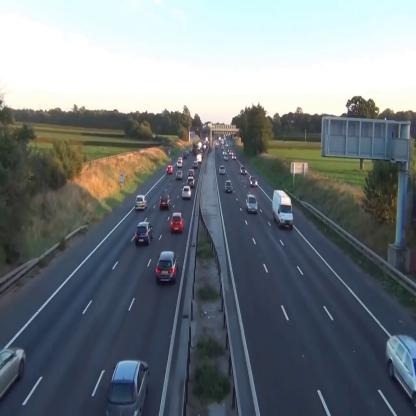car: (106, 359, 149, 416), (386, 332, 416, 405), (156, 250, 179, 284), (135, 222, 153, 244), (171, 213, 184, 232), (245, 194, 258, 212), (158, 195, 172, 211), (135, 193, 147, 211), (182, 186, 191, 200), (249, 176, 257, 187), (187, 177, 194, 188), (226, 181, 233, 192), (166, 165, 174, 174), (176, 170, 183, 180), (219, 166, 226, 174), (240, 166, 247, 174)
lorry: (273, 190, 293, 229)
